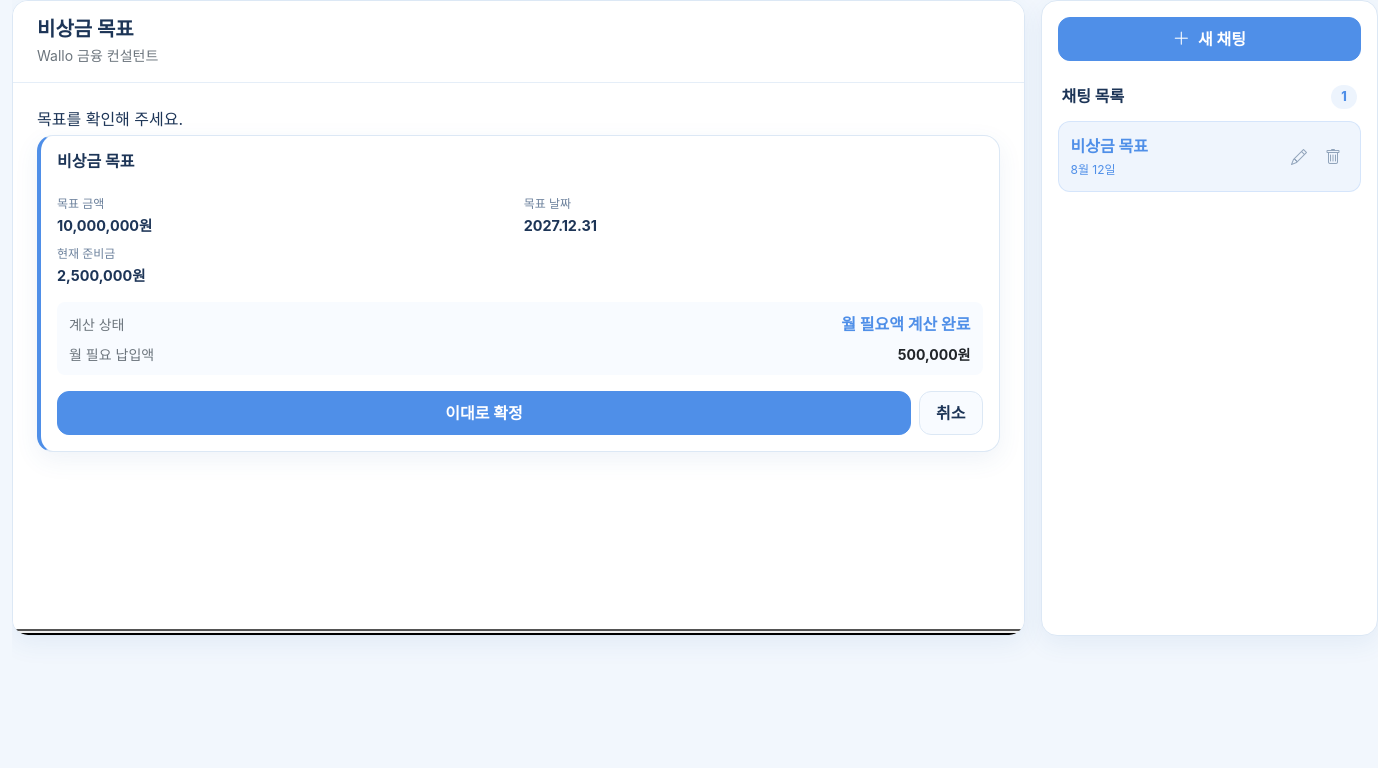
Test: ChatView › does not show the completion modal when roadmap generation fails
Step 1. Click the button "이대로 확정" → (484, 413), box [57,391,911,435]
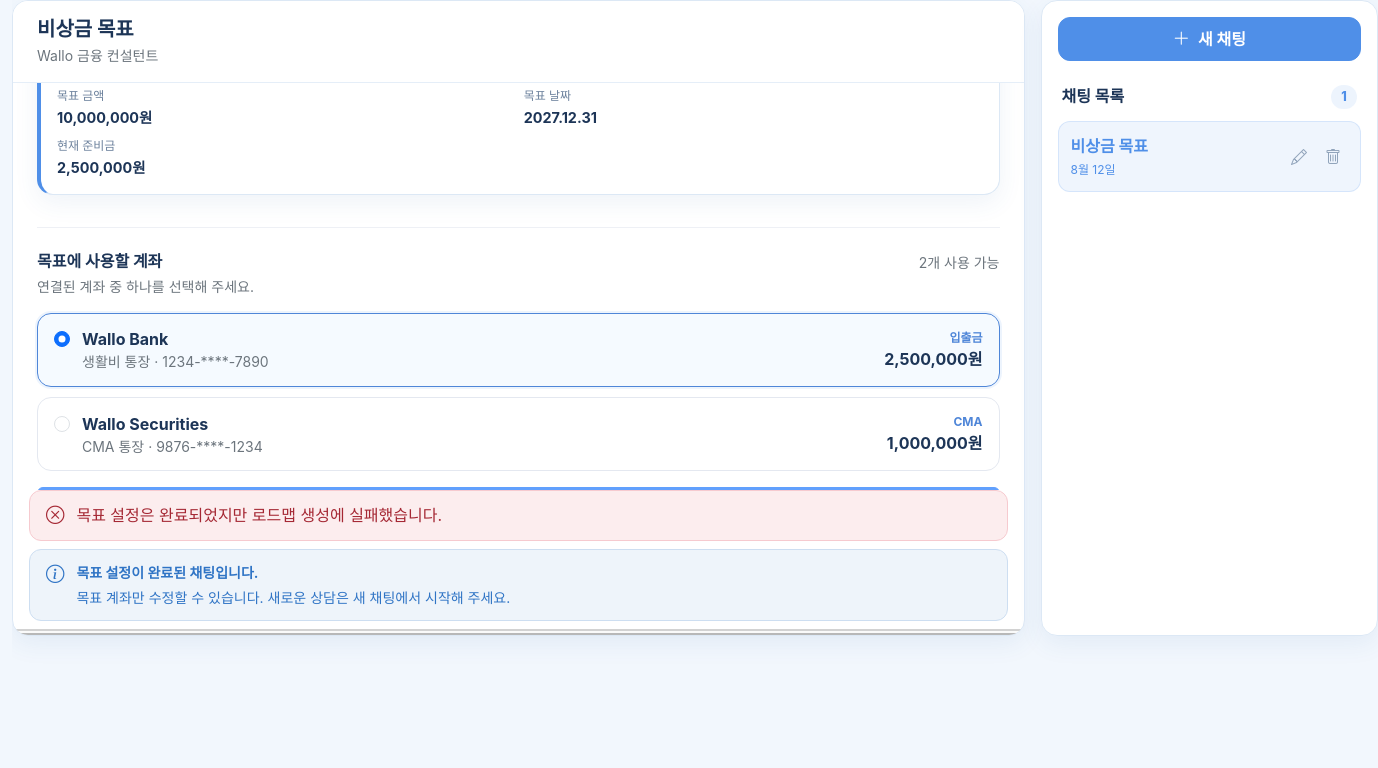
Check: the text "목표 설정은 완료되었지만 로드맵 생성에 실패했습니다." is shown, box [76,505,442,525]
